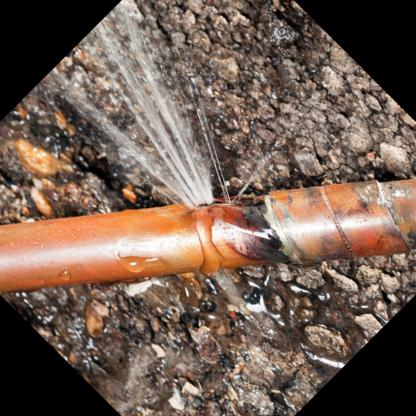burst: (147, 155, 271, 236)
